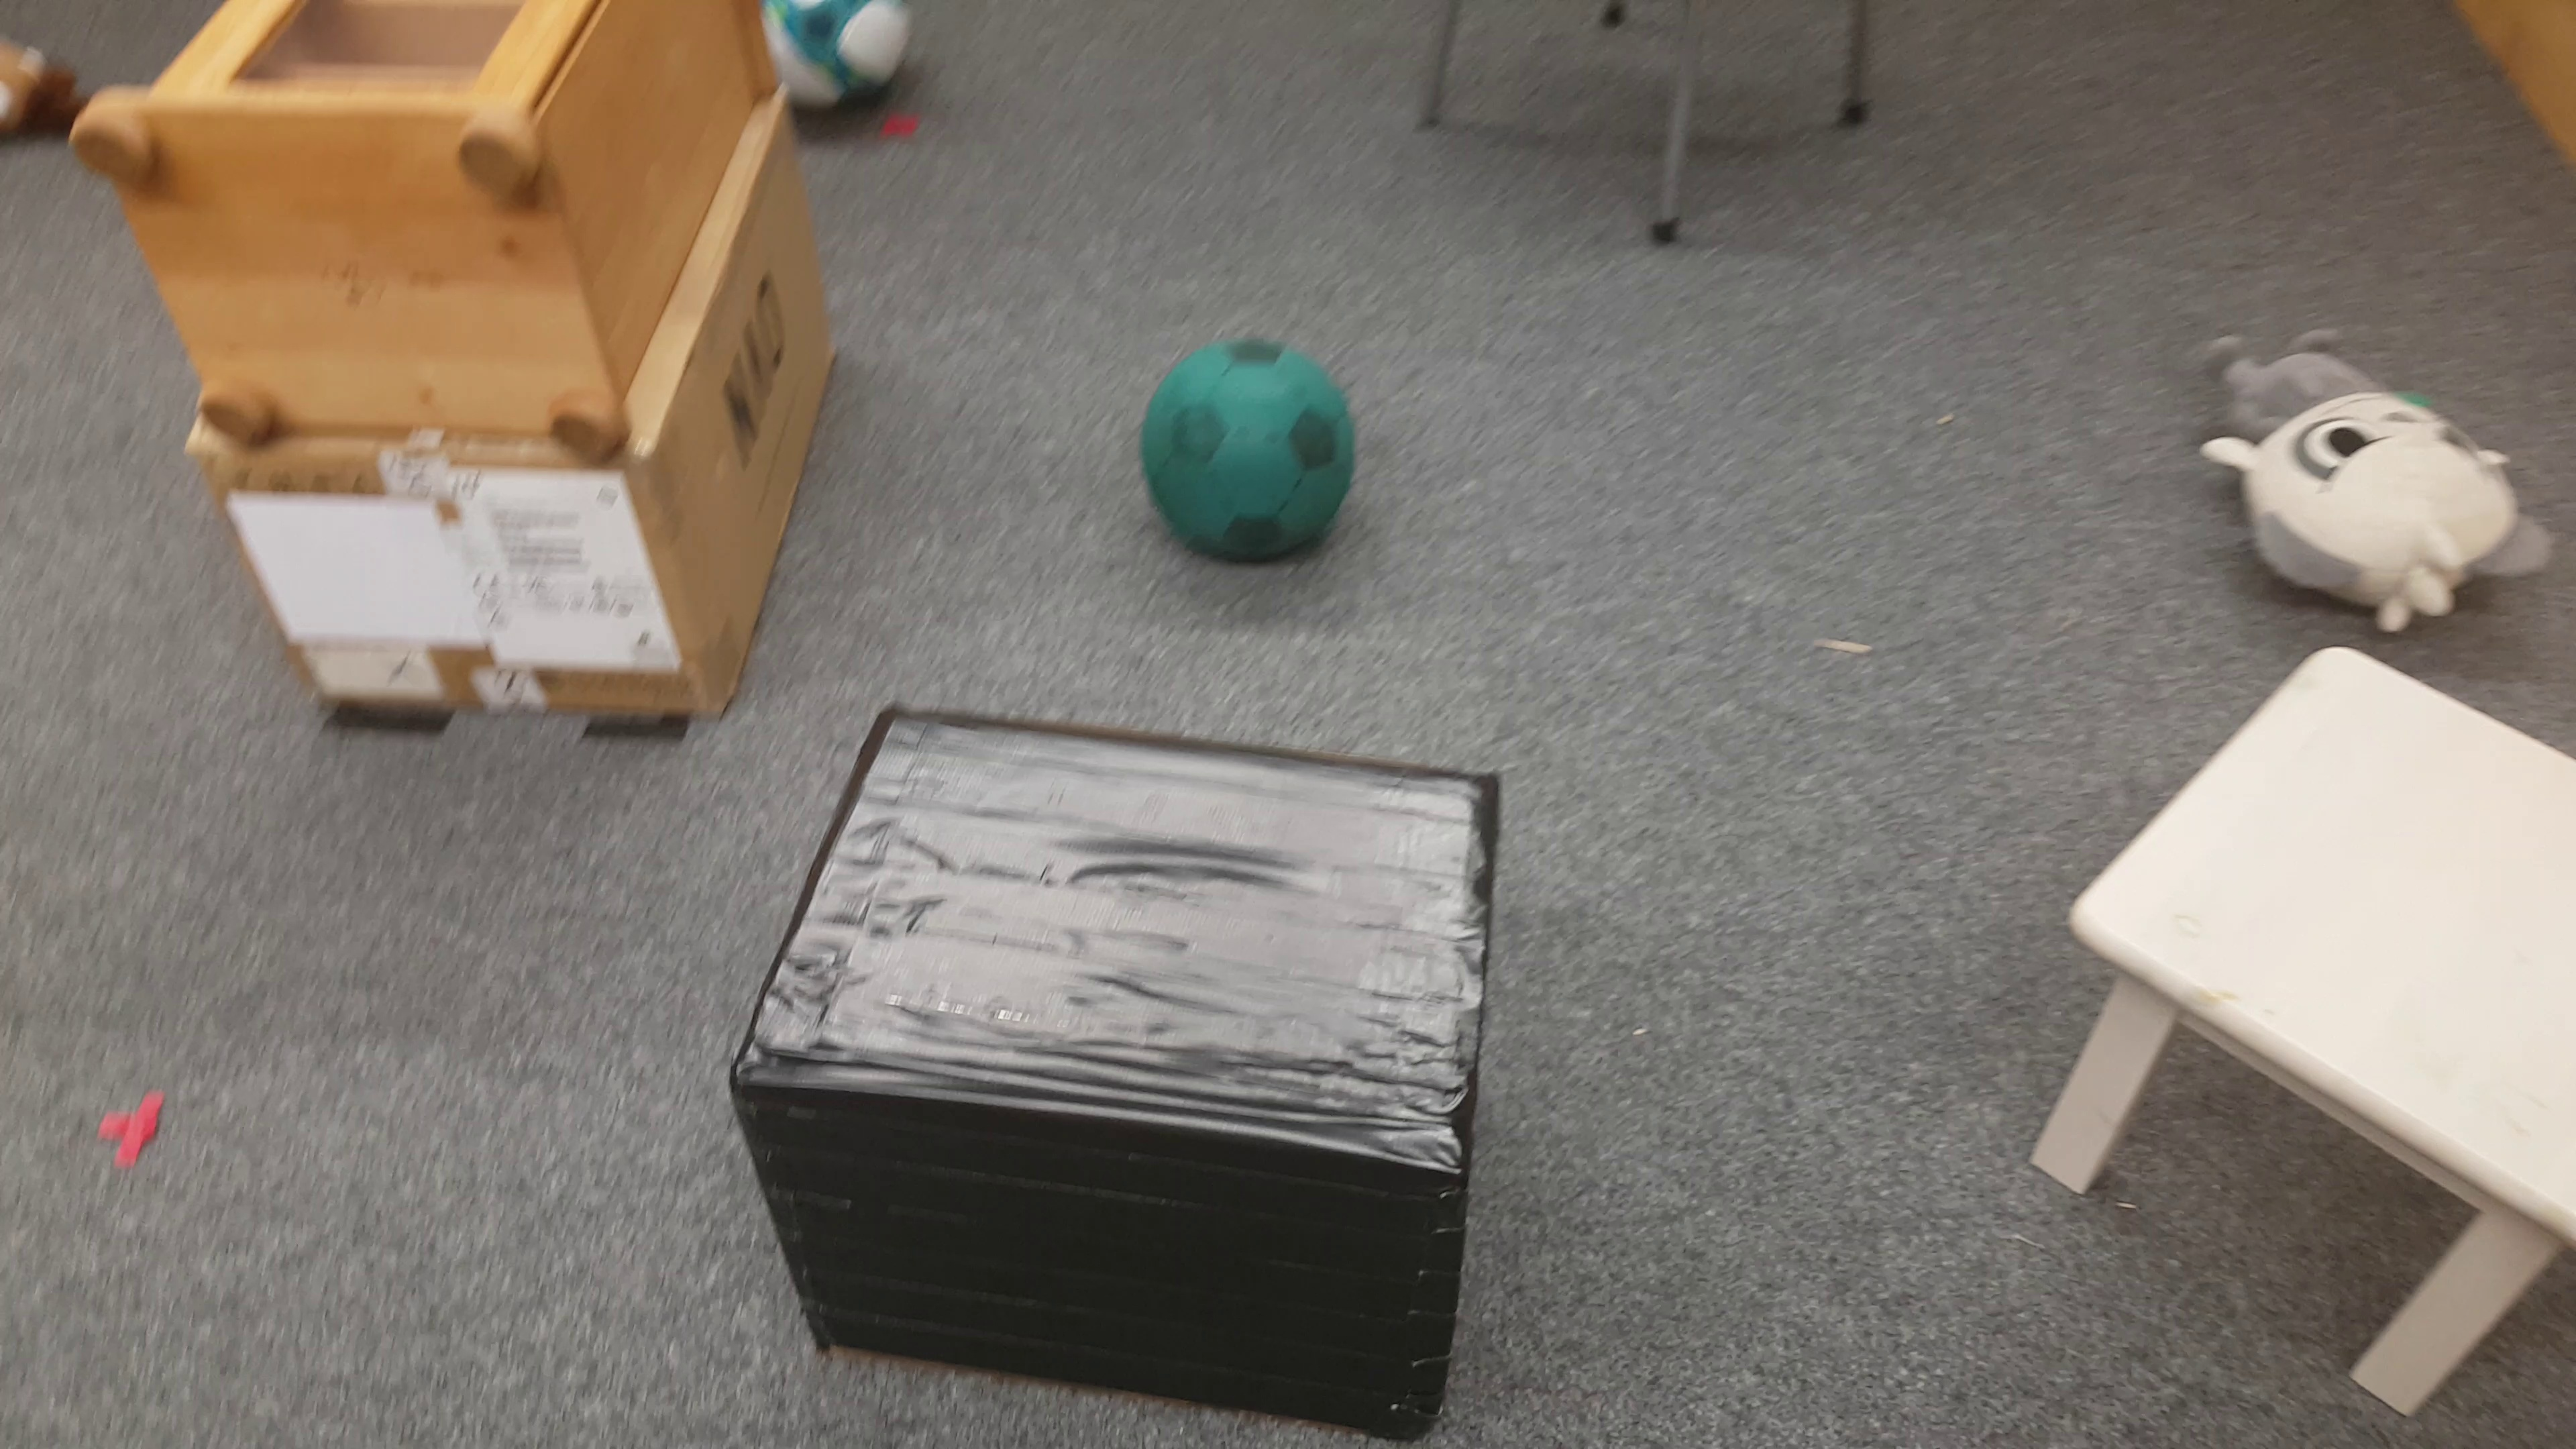grasp: (2173, 313, 2562, 633), (2, 25, 62, 157)
kick: (1138, 338, 1366, 563), (770, 4, 899, 117)
push: (731, 694, 1504, 1449)
